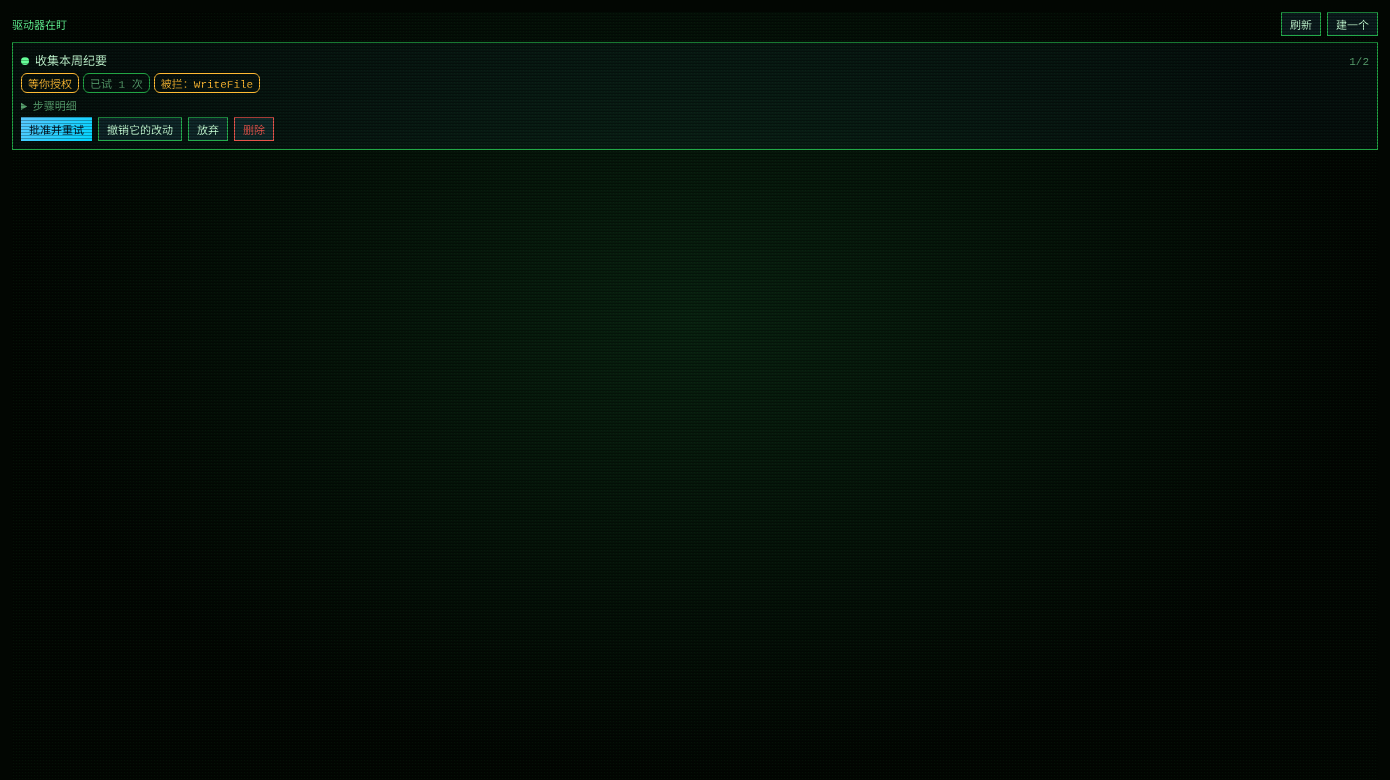
Test case: SpineTaskPanel · 跨会话目标 › 批量撤销走 actions.exec：第一拍是记录数组，确认后第二拍带 confirm
Click the button "撤销它的改动" at (140, 129), box left=98, top=117, right=182, bottom=141
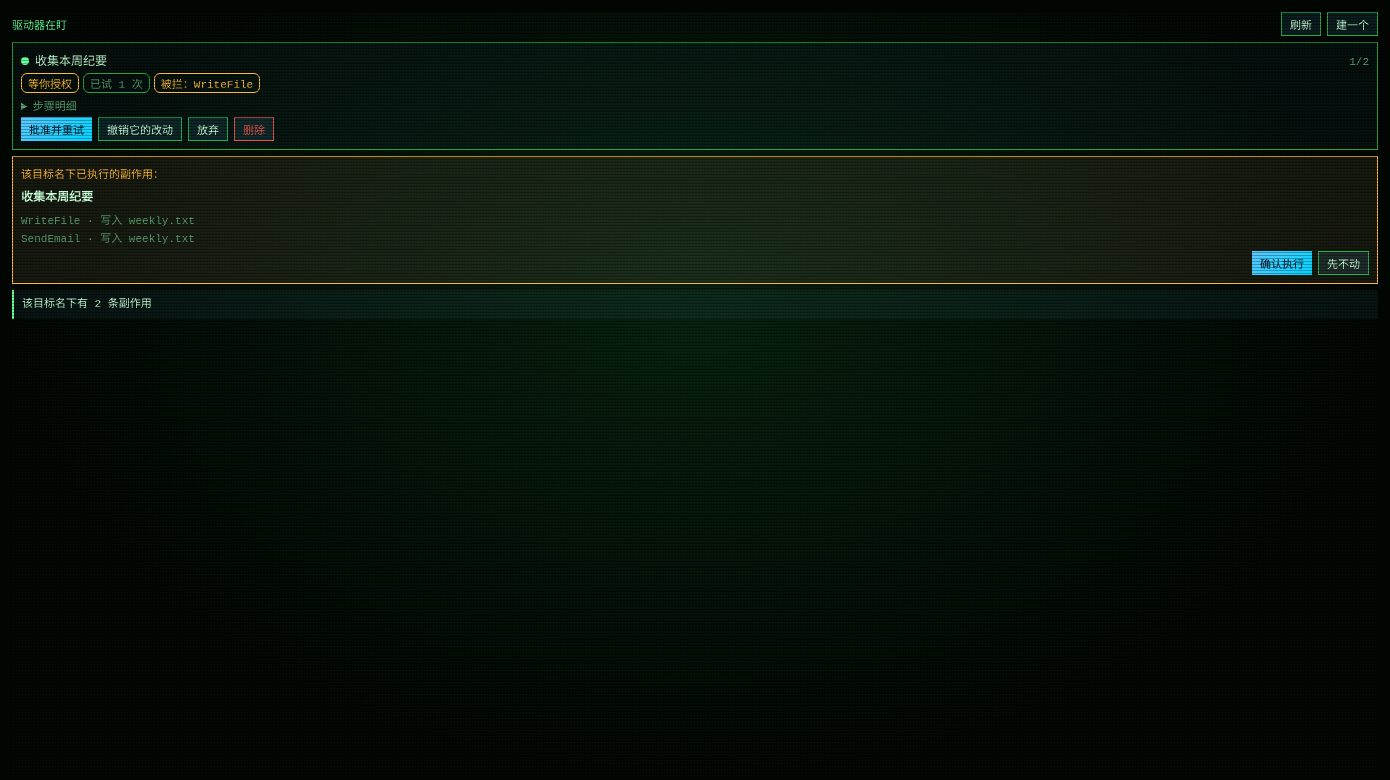
Now the element with test id "spine-confirm" shows "SendEmail", box left=21, top=233, right=80, bottom=245
Click the button with test id "spine-confirm-do" at (1282, 263), box left=1252, top=251, right=1312, bottom=275
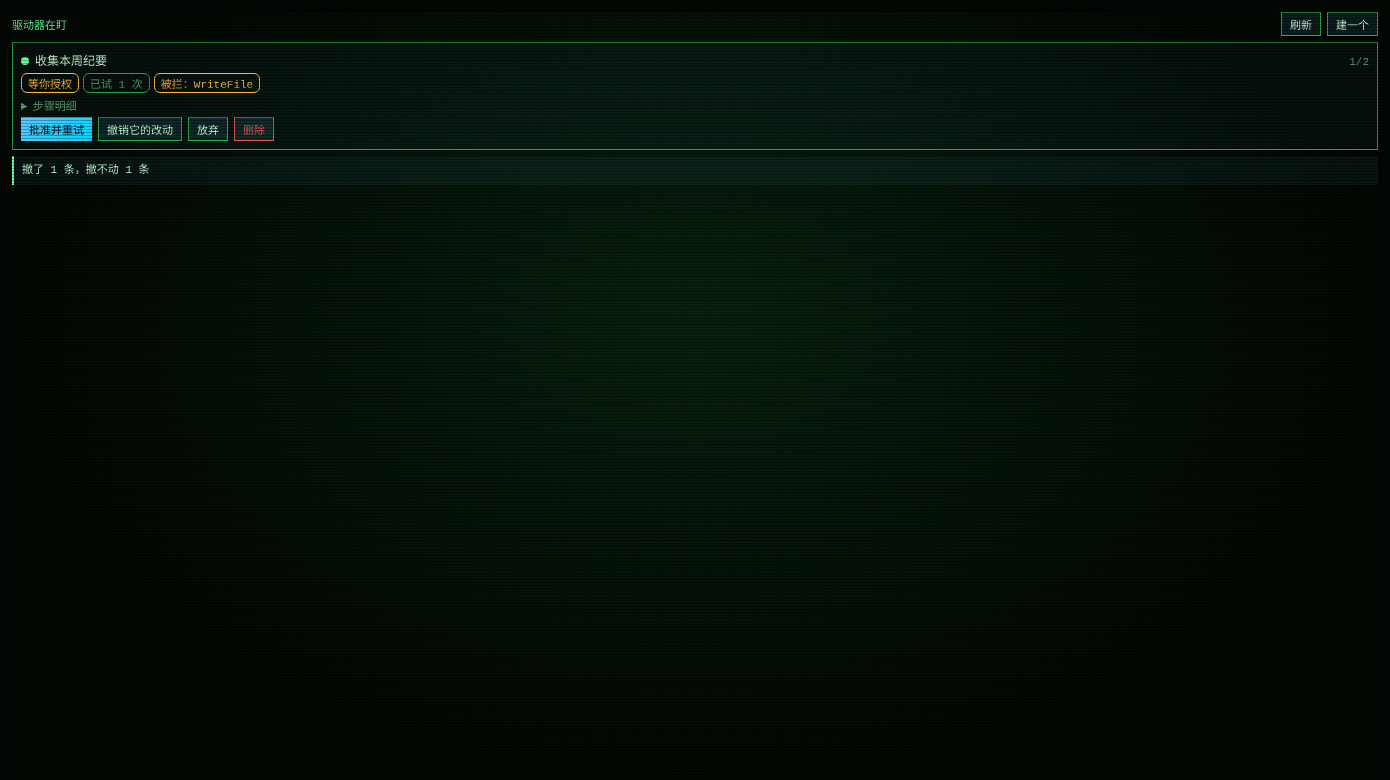
Now the text with test id "spine-notice" shows "撤不动", box left=22, top=164, right=150, bottom=176
